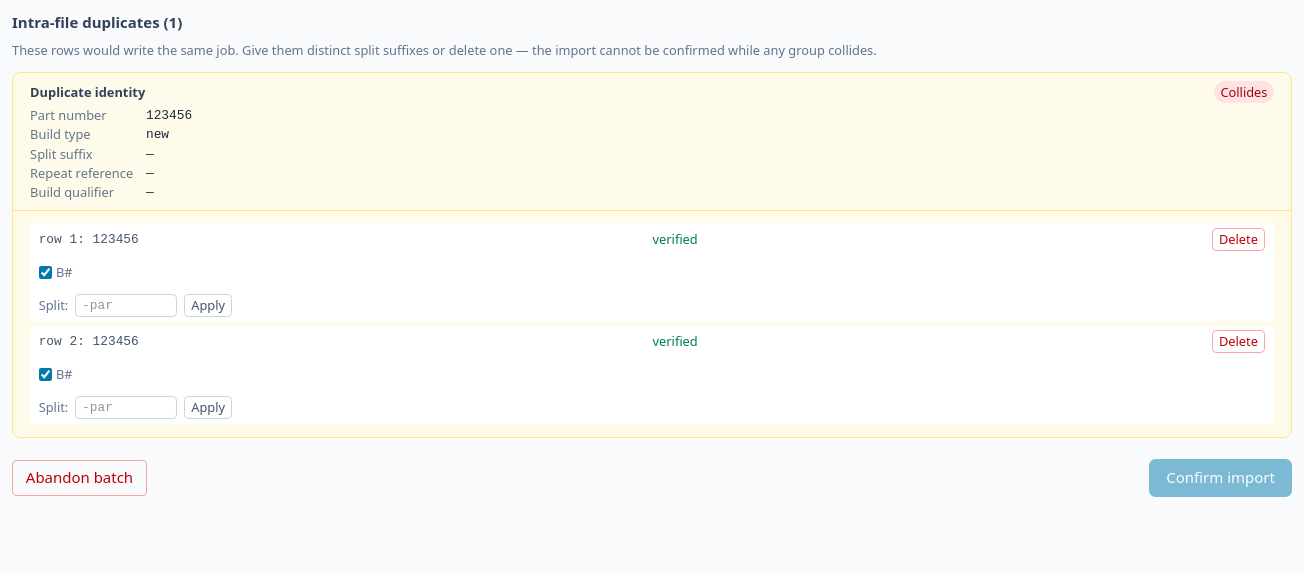
it: BatchReviewPanel — Patch 06 mutation failure handling › a 4xx from a mutation does not refetch
The image size is (1304, 572).
What coordinates should you click on to do the following:
click the button "Apply" below "row 1: 123456"
I would click on:
 (208, 306)
Its box is [184,294,232,317].
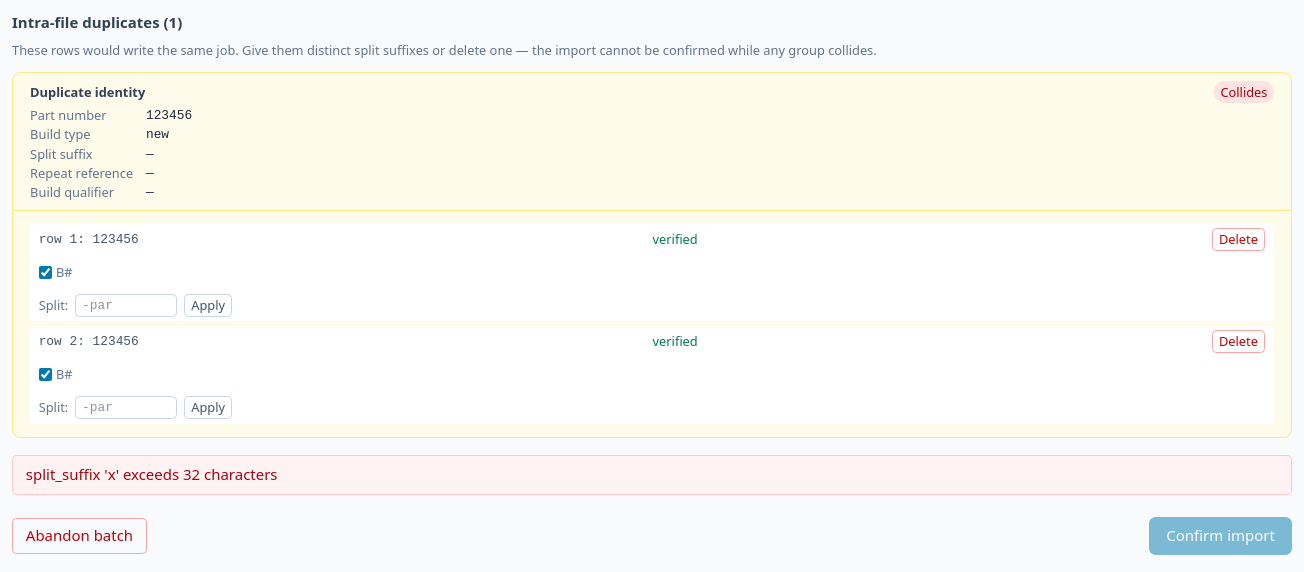
Now the message "split_suffix 'x' exceeds 32 characters" is shown, box [12,455,1292,495]
